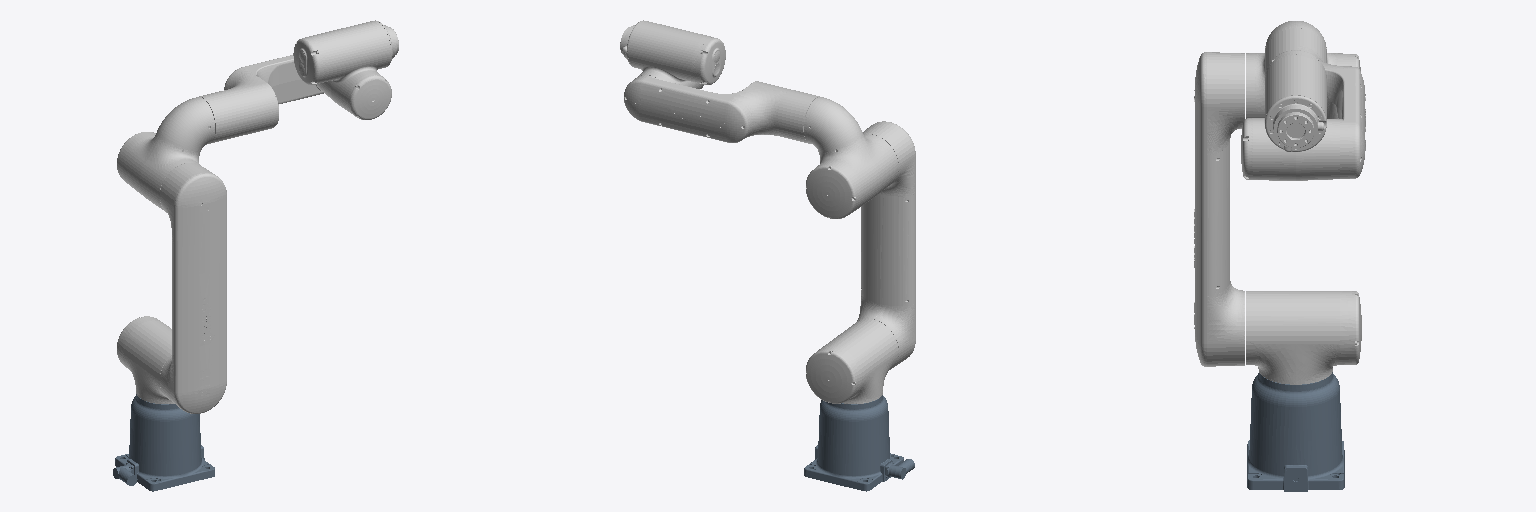
The robot description file, URDF, robot "gofa":
<?xml version="1.0" encoding="utf-8"?>
<!-- This URDF was automatically created by SolidWorks to URDF Exporter! Originally created by Stephen Brawner (brawner@gmail.com) 
     Commit Version: 1.5.1-0-g916b5db  Build Version: 1.5.7152.31018
     For more information, please see http://wiki.ros.org/sw_urdf_exporter -->
<robot
  name="gofa" xmlns:xacro="http://ros.org/wiki/xacro">
<link
    name="base_link">
    <inertial>
      <origin
        xyz="0.0 0.0 0.0"
        rpy="0 0 0" />
      <mass
        value="1.0" />
      <inertia
        ixx="10"
        ixy="0"
        ixz="0"
        iyy="10"
        iyz="0"
        izz="10" />
    </inertial>
    <visual>
      <origin
        xyz="0 0 0"
        rpy="0 0 0" />
      <geometry>
        <mesh
          filename="base_link.STL" />
      </geometry>
      <material
        name="">
        <color
          rgba="0.44 0.5 0.56 1" />
      </material>
    </visual>
    <collision>
      <origin
        xyz="0 0 0"
        rpy="0 0 0" />
      <geometry>
        <mesh
          filename="base_link.STL" />
      </geometry>
    </collision>
  </link>
<link
    name="link1">
    <inertial>
      <origin
        xyz="0.0 0.0 0.0"
        rpy="0 0 0" />
      <mass
        value="2.0" />
      <inertia
        ixx="10"
        ixy="0"
        ixz="0"
        iyy="10"
        iyz="0"
        izz="10" />
    </inertial>
    <visual>
      <origin
        xyz="0 0 0"
        rpy="0 0 0" />
      <geometry>
        <mesh
          filename="link1.STL" />
      </geometry>
      <material
        name="">
        <color
          rgba="0.83 0.83 0.83 1" />
      </material>
    </visual>
    <collision>
      <origin
        xyz="0 0 0"
        rpy="0 0 0" />
      <geometry>
        <mesh
          filename="link1.STL" />
      </geometry>
    </collision>
  </link>

   <joint
    name="joint1"
    type="revolute">
    <origin
      xyz="0 0 0.1865"
      rpy="0 0 0" />
    <parent
      link="base_link" />
    <child
      link="link1" />
    <axis
      xyz="0 0 1" />
    <limit
      lower="-2.7453"
      upper="2.7925"
      effort="200"
      velocity="200" />
  </joint>

<link
    name="link2">
    <inertial>
      <origin
        xyz="0.0 0.0 0.0"
        rpy="0 0 0" />
      <mass
        value="2.0" />
      <inertia
        ixx="10"
        ixy="0"
        ixz="0"
        iyy="10"
        iyz="0"
        izz="10" />
    </inertial>
    <visual>
      <origin
        xyz="0 0 0"
        rpy="0 0 0" />
      <geometry>
        <mesh
          filename="link2.STL" />
      </geometry>
      <material
        name="">
        <color
          rgba="0.83 0.83 0.83 1" />
      </material>
    </visual>
    <collision>
      <origin
        xyz="0 0 0"
        rpy="0 0 0" />
      <geometry>
        <mesh
          filename="link2.STL" />
      </geometry>
    </collision>
  </link>

   <joint
    name="joint2"
    type="revolute">
    <origin
      xyz="0 -0.086 0.07652"
      rpy="1.5708 0 0" />
    <parent
      link="link1" />
    <child
      link="link2" />
    <axis
      xyz="0 0 1" />
    <limit
      lower="-2.7453"
      upper="2.7925"
      effort="200"
      velocity="200" />
  </joint>
  
<link
    name="link3">
    <inertial>
      <origin
        xyz="0.0 0.0 0.0"
        rpy="0 0 0" />
      <mass
        value="2.0" />
      <inertia
        ixx="10"
        ixy="0"
        ixz="0"
        iyy="10"
        iyz="0"
        izz="10" />
    </inertial>
    <visual>
      <origin
        xyz="0 0 0"
        rpy="0 0 0" />
      <geometry>
        <mesh
          filename="link3.STL" />
      </geometry>
      <material
        name="">
        <color
          rgba="0.83 0.83 0.83 1" />
      </material>
    </visual>
    <collision>
      <origin
        xyz="0 0 0"
        rpy="0 0 0" />
      <geometry>
        <mesh
          filename="link3.STL" />
      </geometry>
    </collision>
  </link>

   <joint
    name="joint3"
    type="revolute">
    <origin
      xyz="0 0.444 -0.001"
      rpy="0 0 1.5708" />
    <parent
      link="link2" />
    <child
      link="link3" />
    <axis
      xyz="0 0 1" />
    <limit
      lower="-2.7453"
      upper="2.7925"
      effort="200"
      velocity="200" />
  </joint>

  <link
    name="link4">
    <inertial>
      <origin
        xyz="0.0 0.0 0.0"
        rpy="0 0 0" />
      <mass
        value="2.0" />
      <inertia
        ixx="10"
        ixy="0"
        ixz="0"
        iyy="10"
        iyz="0"
        izz="10" />
    </inertial>
    <visual>
      <origin
        xyz="0 0 0"
        rpy="0 0 0" />
      <geometry>
        <mesh
          filename="link4.STL" />
      </geometry>
      <material
        name="">
        <color
          rgba="0.83 0.83 0.83 1" />
      </material>
    </visual>
    <collision>
      <origin
        xyz="0 0 0"
        rpy="0 0 0" />
      <geometry>
        <mesh
          filename="link4.STL" />
      </geometry>
    </collision>
  </link>

   <joint
    name="joint4"
    type="revolute">
    <origin
      xyz="0.10998 -0.09701 -0.08498"
      rpy="1.5708 0 0" />
    <parent
      link="link3" />
    <child
      link="link4" />
    <axis
      xyz="0 0 1" />
    <limit
      lower="-2.7453"
      upper="2.7925"
      effort="200"
      velocity="200" />
  </joint>

  <link
    name="link5">
    <inertial>
      <origin
        xyz="0.0 0.0 0.0"
        rpy="0 0 0" />
      <mass
        value="2.0" />
      <inertia
        ixx="10"
        ixy="0"
        ixz="0"
        iyy="10"
        iyz="0"
        izz="10" />
    </inertial>
    <visual>
      <origin
        xyz="0 0 0"
        rpy="0 0 0" />
      <geometry>
        <mesh
          filename="link5.STL" />
      </geometry>
      <material
        name="">
        <color
          rgba="0.83 0.83 0.83 1" />
      </material>
    </visual>
    <collision>
      <origin
        xyz="0 0 0"
        rpy="0 0 0" />
      <geometry>
        <mesh
          filename="link5.STL" />
      </geometry>
    </collision>
  </link>

   <joint
    name="joint5"
    type="revolute">
    <origin
      xyz="0.0 0.0 0.37302"
      rpy="-1.5708 0 0" />
    <parent
      link="link4" />
    <child
      link="link5" />
    <axis
      xyz="0 0 1" />
    <limit
      lower="-2.7453"
      upper="2.7925"
      effort="200"
      velocity="200" />
  </joint>

   <link
    name="link6">
    <inertial>
      <origin
        xyz="0.0 0.0 0.0"
        rpy="0 0 0" />
      <mass
        value="2.0" />
      <inertia
        ixx="10"
        ixy="0"
        ixz="0"
        iyy="10"
        iyz="0"
        izz="10" />
    </inertial>
    <visual>
      <origin
        xyz="0 0 0"
        rpy="0 0 0" />
      <geometry>
        <mesh
          filename="link6.STL" />
      </geometry>
      <material
        name="">
        <color
          rgba="0.83 0.83 0.83 1" />
      </material>
    </visual>
    <collision>
      <origin
        xyz="0 0 0"
        rpy="0 0 0" />
      <geometry>
        <mesh
          filename="link6.STL" />
      </geometry>
    </collision>
  </link>

   <joint
    name="joint6"
    type="revolute">
    <origin
      xyz="0.08 -0.06838 0.0"
      rpy="1.5708 0 0" />
    <parent
      link="link5" />
    <child
      link="link6" />
    <axis
      xyz="0 0 1" />
    <limit
      lower="-2.7453"
      upper="2.7925"
      effort="200"
      velocity="200" />
  </joint>

  <link
    name="end_effector">
    <inertial>
      <origin
        xyz="0.0 0.0 0.0"
        rpy="0 0 0" />
      <mass
        value="2.0" />
      <inertia
        ixx="10"
        ixy="0"
        ixz="0"
        iyy="10"
        iyz="0"
        izz="10" />
    </inertial>
    <visual>
      <origin
        xyz="0 0 0"
        rpy="0 0 0" />
      <geometry>
        <mesh
          filename="end_effector.STL" />
      </geometry>
      <material
        name="">
        <color
          rgba="0.83 0.83 0.83 1" />
      </material>
    </visual>
    <collision>
      <origin
        xyz="0 0 0"
        rpy="0 0 0" />
      <geometry>
        <mesh
          filename="end_effector.STL" />
      </geometry>
    </collision>
  </link>

   <joint
    name="joint7"
    type="fixed">
    <origin
      xyz="0 -0.1527 0.1261"
      rpy="1.5708 -1.5708 0" />
    <parent
      link="link6" />
    <child
      link="end_effector" />
    <axis
      xyz="0 0 1" />
    <limit
      lower="-2.7453"
      upper="2.7925"
      effort="200"
      velocity="200" />
  </joint>


   </robot>

--- Render facts (derived) ---
3 views of the same robot in one strip: view 1: azimuth 30°, elevation 25°; view 2: azimuth 150°, elevation 25°; view 3: azimuth 270°, elevation 25° (orthographic).
Robot: gofa — 8 links, 7 joints (6 revolute, 1 fixed); root link base_link; default pose: all joints at 0.
Visible links, largest first — view 1: link2, link5, base_link, link3, link4, link1; view 2: link2, link4, link3, base_link, link1, link5; view 3: link2, base_link, link1, link5, link4, link6, link3.
Link boxes in pixels (left/top/right/bottom): link2: left=160, top=163, right=226, bottom=413; link5: left=293, top=21, right=391, bottom=119; base_link: left=113, top=394, right=214, bottom=491; link3: left=117, top=97, right=214, bottom=212; link4: left=199, top=55, right=323, bottom=143; link1: left=117, top=316, right=173, bottom=403; link2: left=857, top=121, right=915, bottom=367; link4: left=624, top=75, right=819, bottom=143; link3: left=804, top=97, right=898, bottom=218; base_link: left=804, top=395, right=914, bottom=491; link1: left=806, top=319, right=898, bottom=403; link5: left=628, top=21, right=725, bottom=88; link2: left=1194, top=52, right=1244, bottom=366; base_link: left=1247, top=372, right=1344, bottom=491; link1: left=1246, top=291, right=1361, bottom=384; link5: left=1241, top=50, right=1339, bottom=180; link4: left=1265, top=28, right=1365, bottom=178; link6: left=1265, top=95, right=1326, bottom=151; link3: left=1246, top=21, right=1360, bottom=118.
Size in the robot's own frame: 0.6955 by 0.2902 by 0.9517 metres.
7 mesh visuals loaded from 8 distinct referenced files (7 binary STL); not drawn: 1 (reference not matched to a file when rendering).
